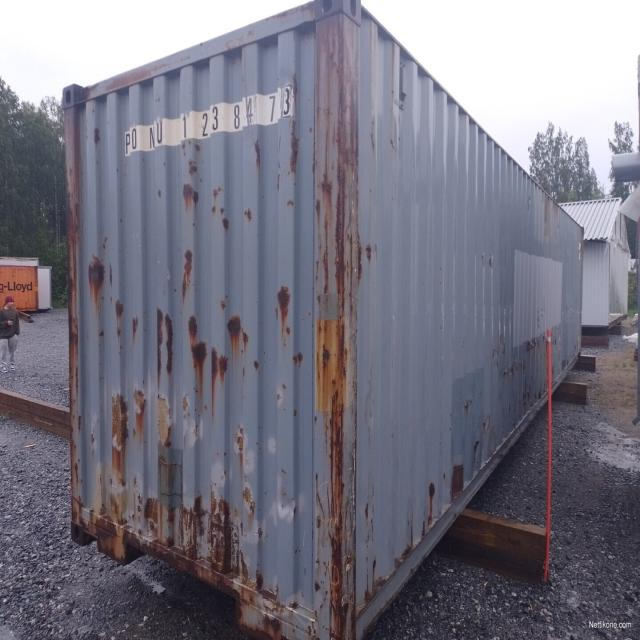rust: (72, 499, 274, 640), (317, 13, 360, 178), (67, 167, 79, 489), (331, 513, 349, 640), (330, 390, 345, 522), (336, 161, 347, 315), (180, 497, 209, 545), (112, 395, 131, 451), (212, 348, 229, 385), (165, 315, 175, 376), (89, 257, 106, 291), (158, 309, 164, 390), (278, 286, 291, 322), (184, 250, 193, 297), (191, 343, 209, 366), (291, 122, 299, 173), (349, 235, 354, 313), (145, 499, 159, 525), (227, 316, 243, 338), (323, 246, 329, 295), (264, 616, 281, 632), (340, 324, 346, 367), (322, 173, 333, 196), (189, 316, 198, 340), (259, 590, 278, 601), (323, 345, 331, 369), (189, 159, 198, 180), (133, 317, 139, 345), (168, 508, 176, 529), (359, 249, 363, 286), (117, 299, 124, 319), (256, 141, 261, 169), (256, 574, 264, 590), (94, 129, 101, 145), (184, 185, 193, 196), (316, 200, 322, 215), (223, 218, 229, 233), (367, 246, 372, 262), (194, 192, 200, 205), (244, 333, 250, 344), (214, 190, 219, 201), (150, 522, 156, 531), (221, 208, 226, 216), (213, 206, 217, 214)
